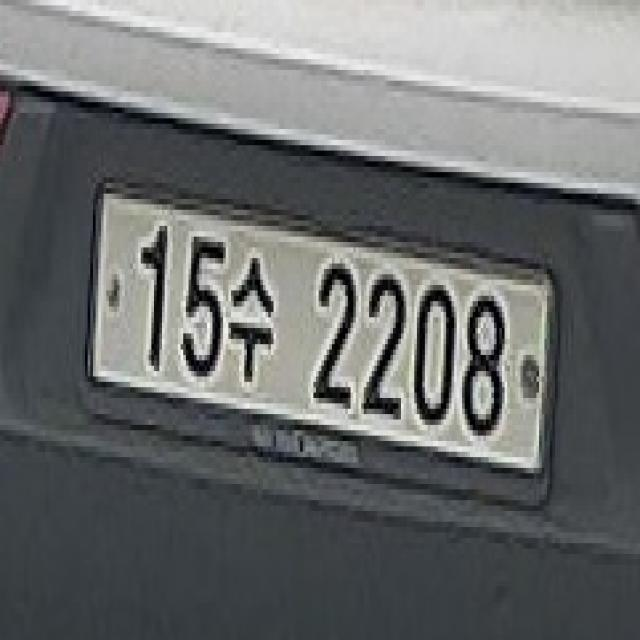0: (412, 258, 459, 446)
1: (130, 199, 175, 387)
2: (303, 248, 361, 436), (361, 258, 409, 436)
5: (176, 215, 228, 398)
8: (457, 253, 510, 446)
license_plate: (80, 178, 563, 522)
su: (228, 242, 279, 393)
